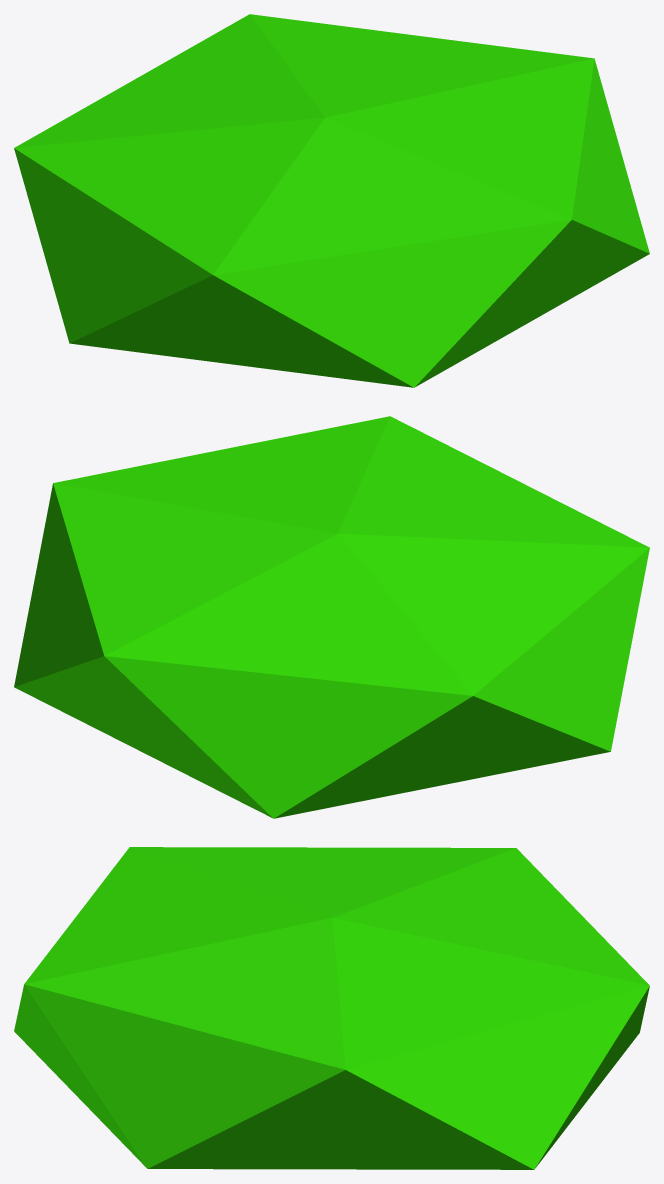
Rendered from Island10xTop.glb.
3 renders of one model, top to bottom at view 1: azimuth 30°, elevation 25°; view 2: azimuth 150°, elevation 25°; view 3: azimuth 270°, elevation 25°, orthographic. The views are drawn at different scales.
Visible parts, largest first — view 1: Island10xTop; view 2: Island10xTop; view 3: Island10xTop.
Part boxes in pixels (x1,y1,x2,y2): Island10xTop: [14, 14, 649, 387]; Island10xTop: [14, 416, 649, 818]; Island10xTop: [14, 847, 649, 1169].
Bounding box in the file's own units: 9.47 × 3.61 × 9.37.
